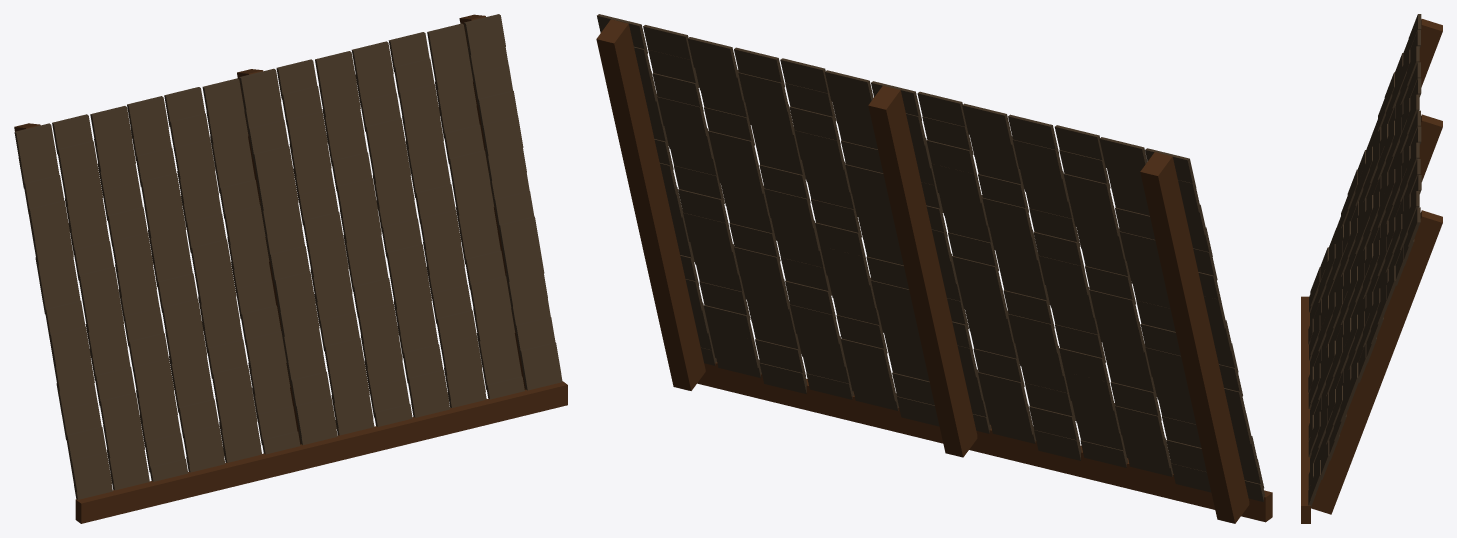
File: SM_Izba_RoofHalf_1348_LOD0.obj
3 renders of one model, left to right at view 1: azimuth 30°, elevation 25°; view 2: azimuth 150°, elevation 25°; view 3: azimuth 270°, elevation 25°, orthographic. The views are drawn at different scales.
Parts seen in each view (by area): view 1: overlapping_oak_shingle, ridge_board, sloped_rafter; view 2: overlapping_oak_shingle, sloped_rafter, ridge_board; view 3: overlapping_oak_shingle, sloped_rafter, ridge_board.
Boxes of the visible parts, left/top/right/bottom form: overlapping_oak_shingle: left=14, top=14, right=562, bottom=499; ridge_board: left=75, top=381, right=567, bottom=523; sloped_rafter: left=14, top=14, right=525, bottom=482; overlapping_oak_shingle: left=597, top=14, right=1265, bottom=501; sloped_rafter: left=596, top=19, right=1249, bottom=523; ridge_board: left=697, top=362, right=1272, bottom=522; overlapping_oak_shingle: left=1308, top=14, right=1421, bottom=506; sloped_rafter: left=1311, top=19, right=1442, bottom=514; ridge_board: left=1301, top=296, right=1310, bottom=523.
Size of the model in its own units: 4 by 2.69 by 1.15.
